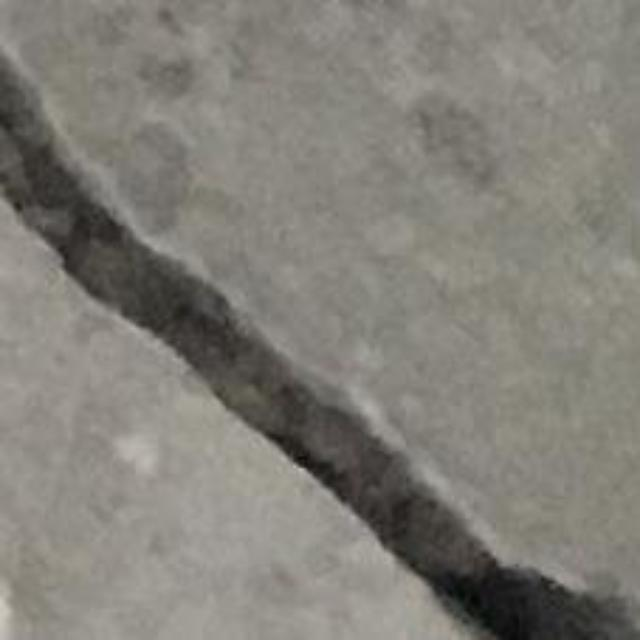crack: (0, 51, 639, 639)
